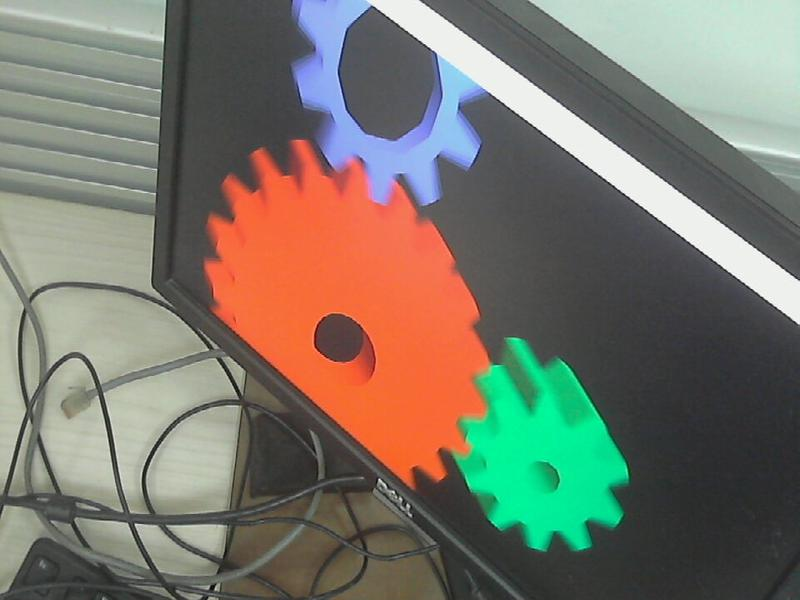glxgears_pass: (192, 6, 635, 552)
